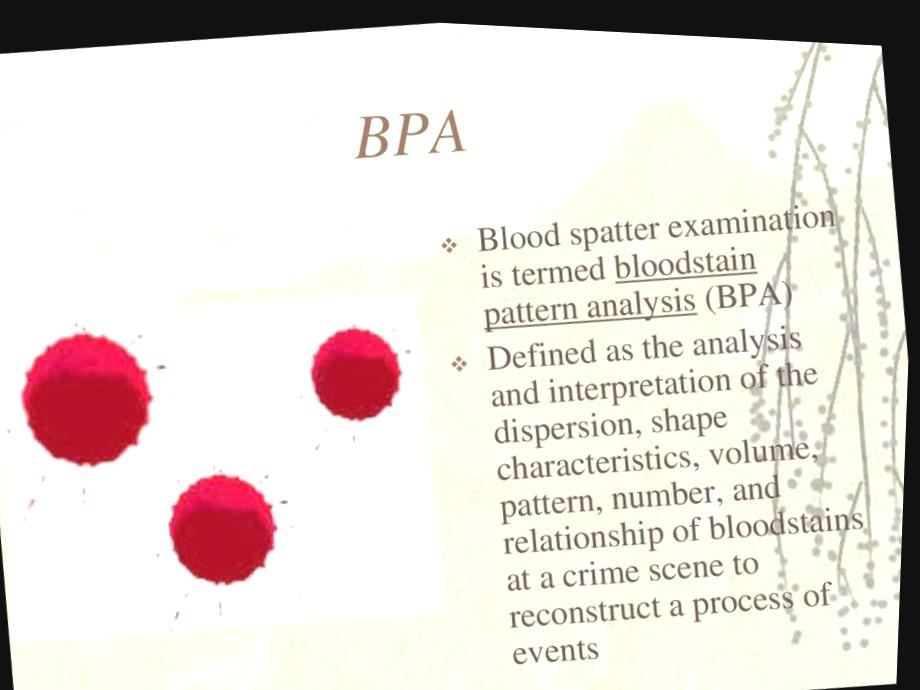Fire: (23, 327, 156, 465), (171, 471, 280, 583), (312, 323, 405, 418)
